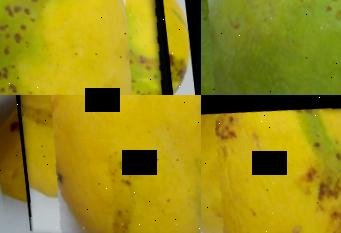Ripe: (12, 95, 201, 233), (201, 95, 341, 233), (0, 0, 176, 95)
Unripe: (201, 0, 341, 95)
